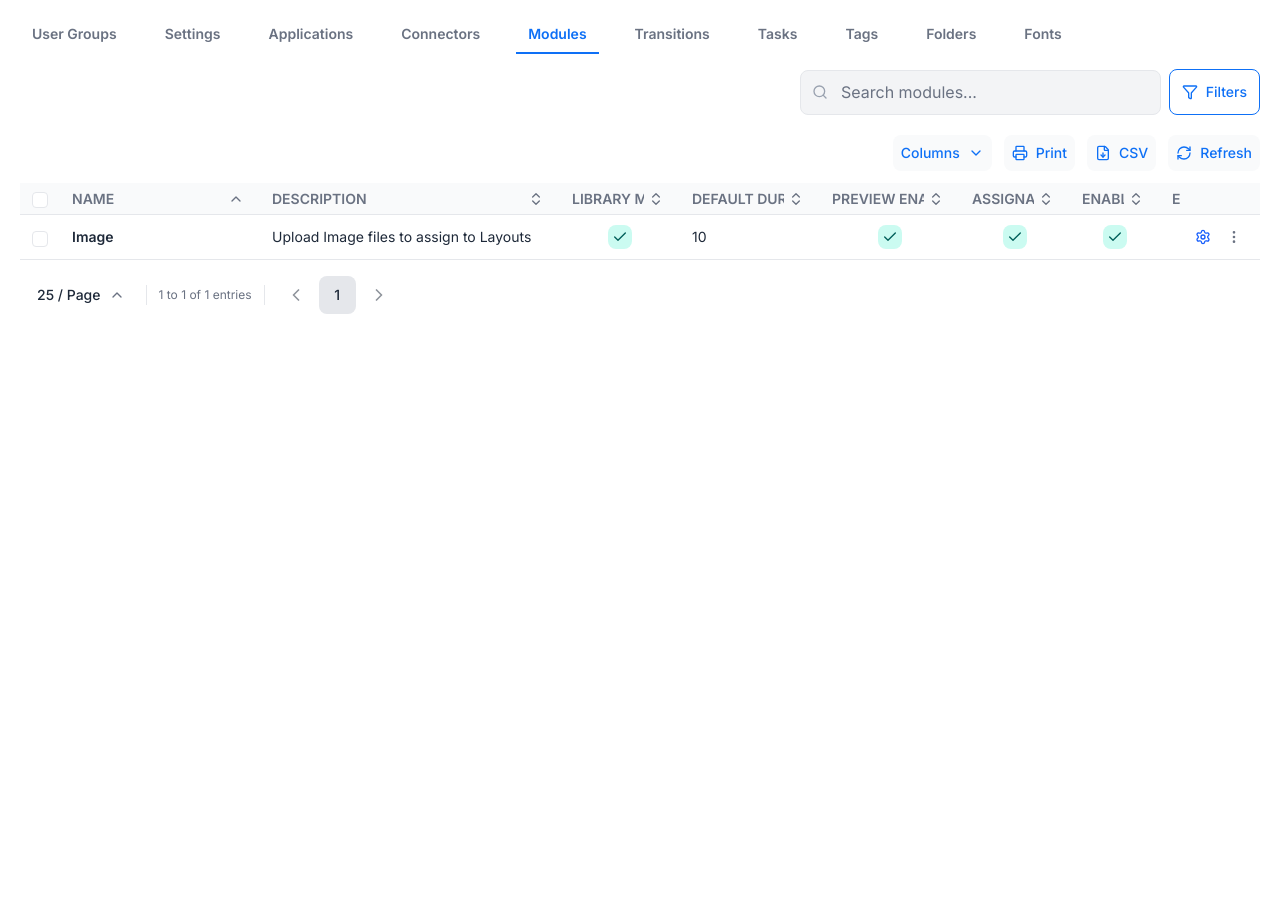
Modules page - configure wiring › a failed save keeps the modal open and shows the error
Expected: the text "Image" is shown, [72,227,114,247]
What coordinates should you click on to do the following:
click the button named "configure"
I would click on:
 (1203, 237)
Its box is [1190,224,1216,250].
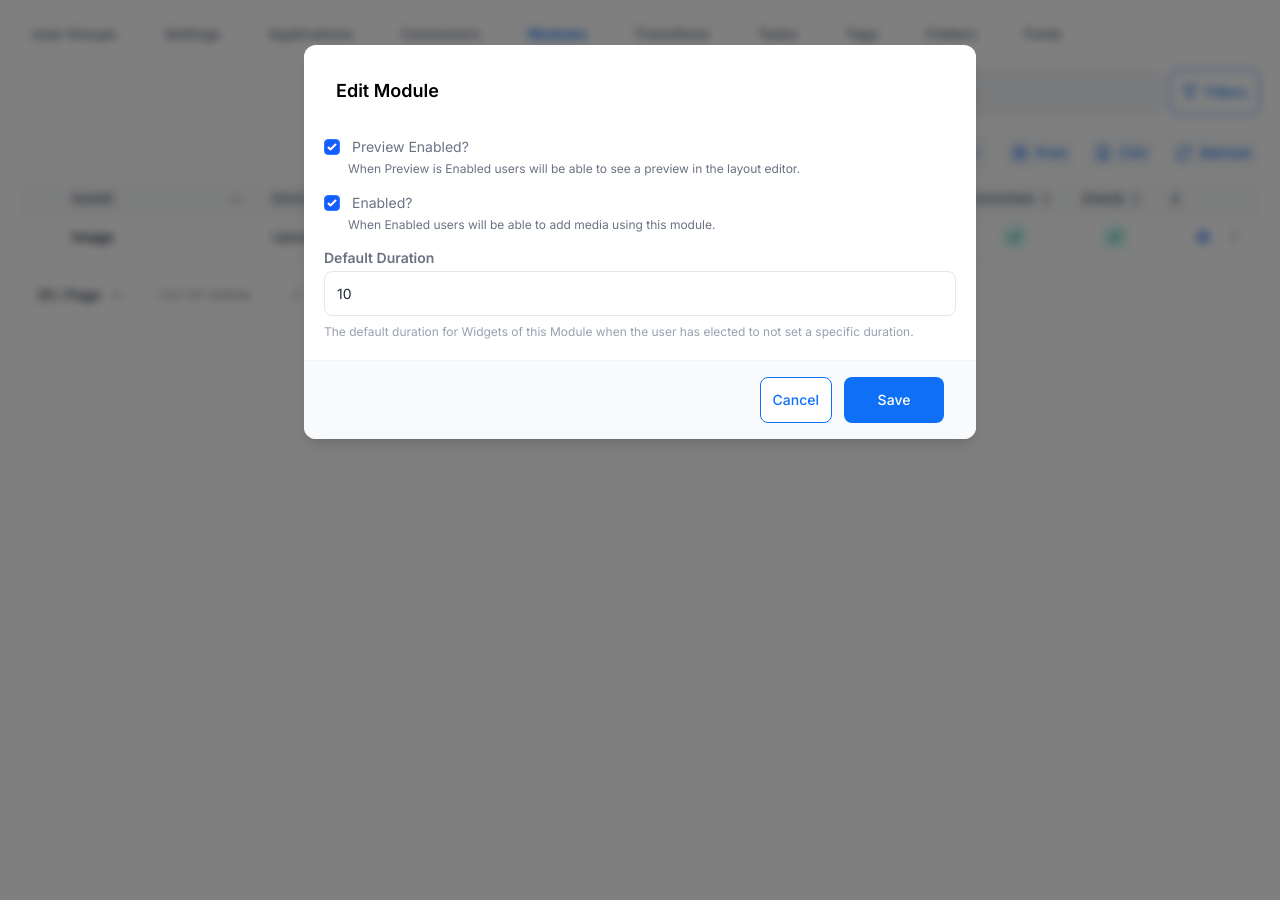
What coordinates should you click on to do the following:
click the button "Save"
I would click on:
 (894, 400)
Its box is [844,377,944,423].
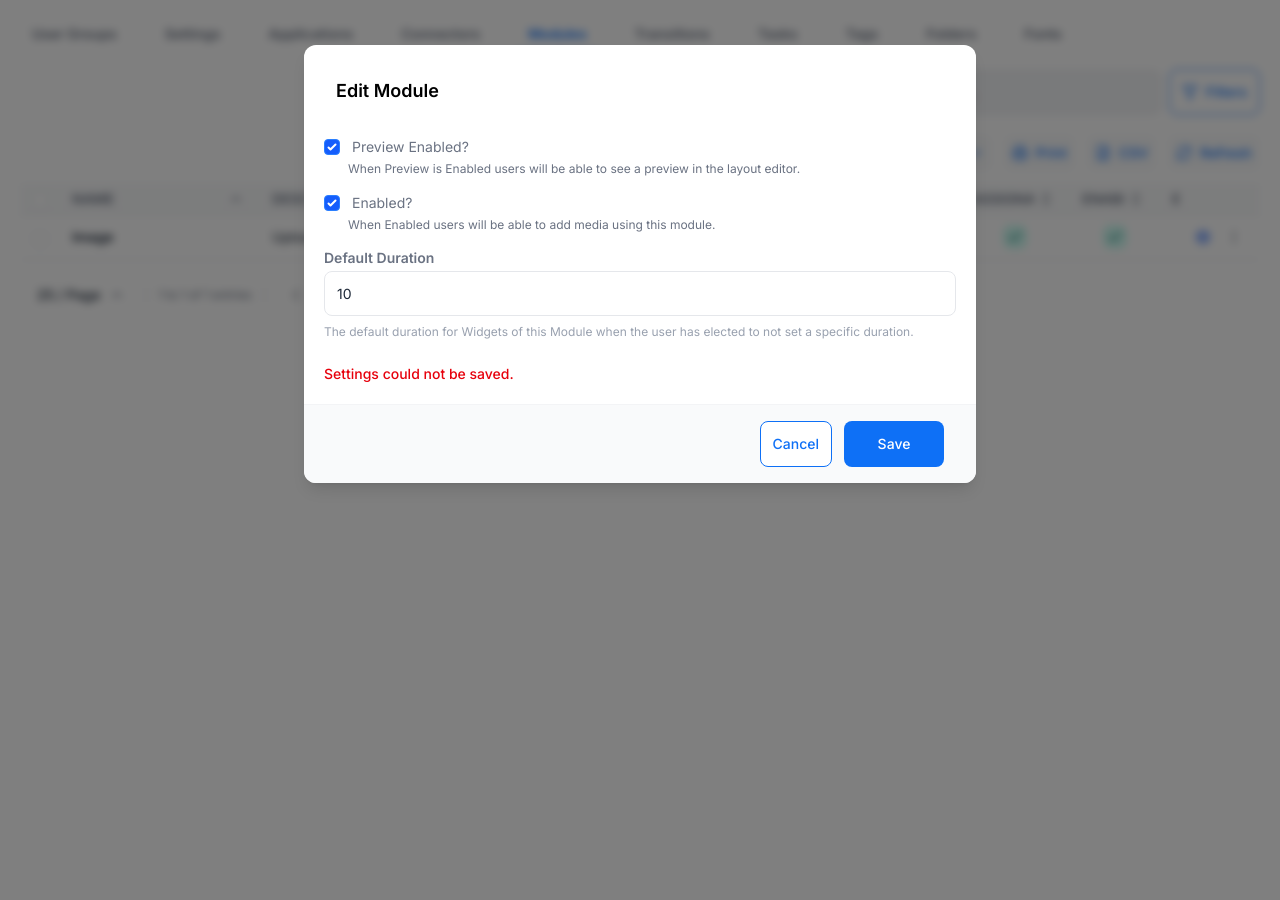
Expected: the dialog "Edit Module" is shown, [304,45,976,483]
Expected: the text "Settings could not be saved." is shown, [324,365,514,382]
